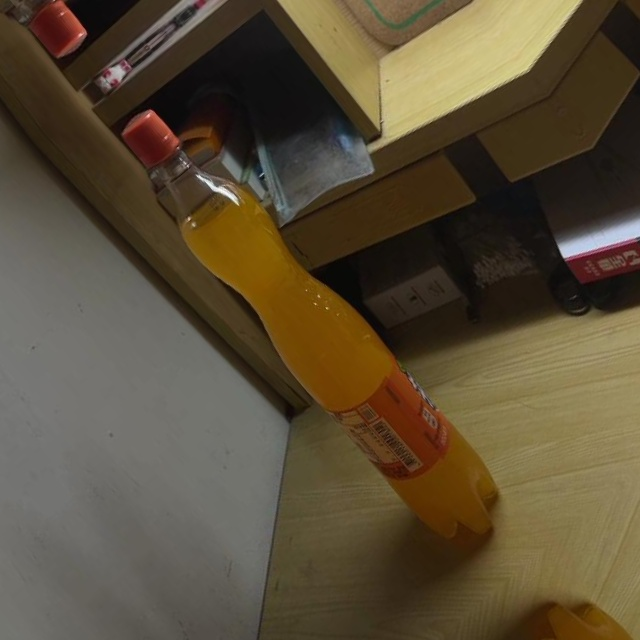Fanta: (99, 88, 522, 567)
